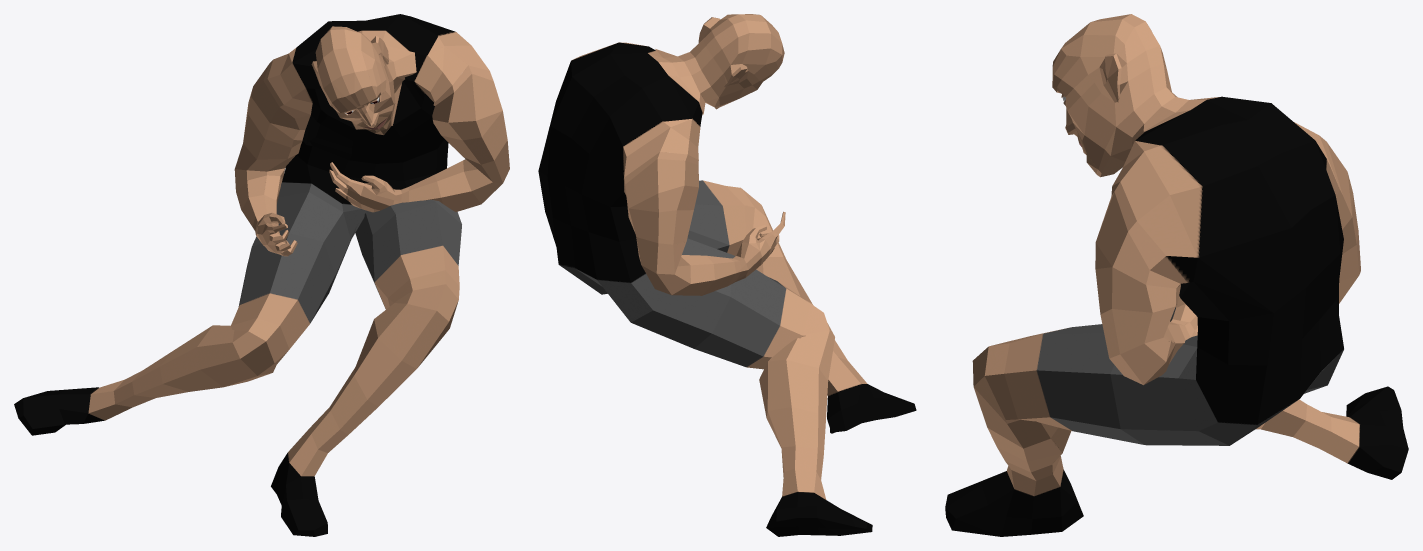
Rendered from PlayerDead(36).obj.
3 views of the same model, side by side, from view 1: azimuth 30°, elevation 25°; view 2: azimuth 150°, elevation 25°; view 3: azimuth 270°, elevation 25° (orthographic). The views are drawn at different scales.
Parts seen in each view (by area): view 1: Plane002; view 2: Plane002; view 3: Plane002.
Boxes of the visible parts, box(x1,y1,x2,y2) form: Plane002: box(14, 14, 509, 536); Plane002: box(538, 14, 916, 536); Plane002: box(945, 14, 1408, 536).
Size of the model in its own units: 1058 by 1110 by 826.
